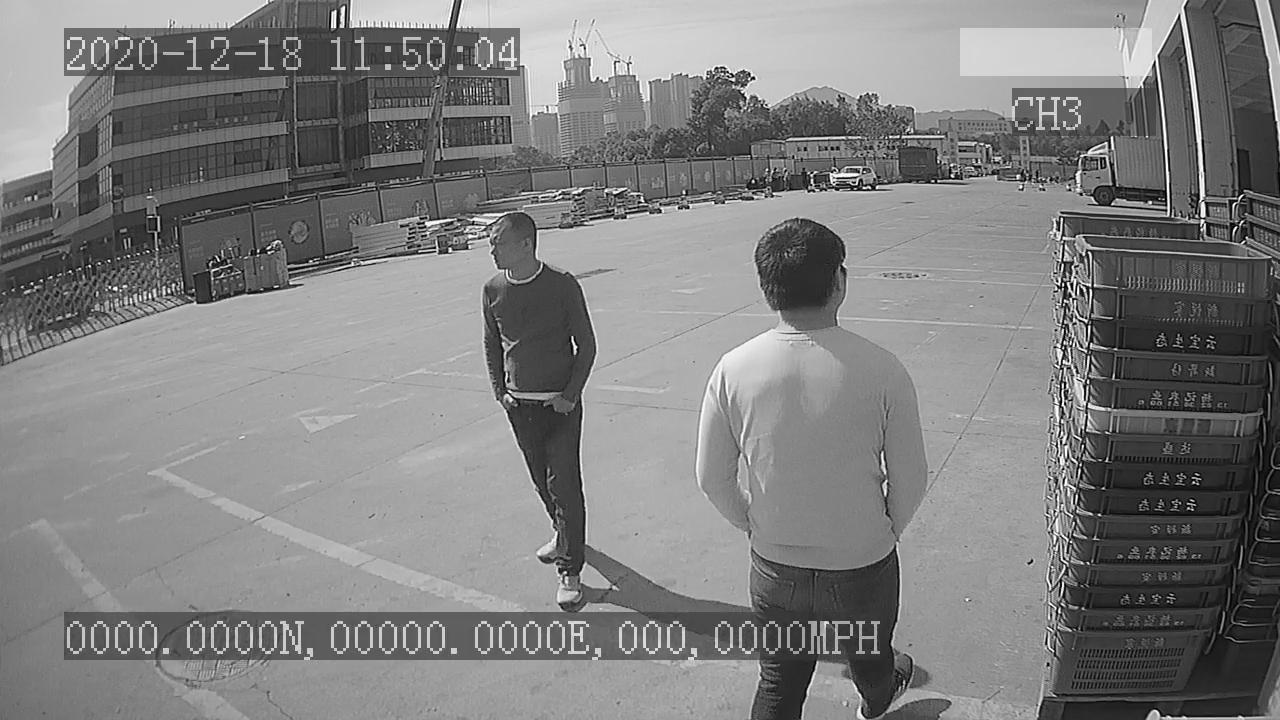person: (476, 210, 602, 611)
